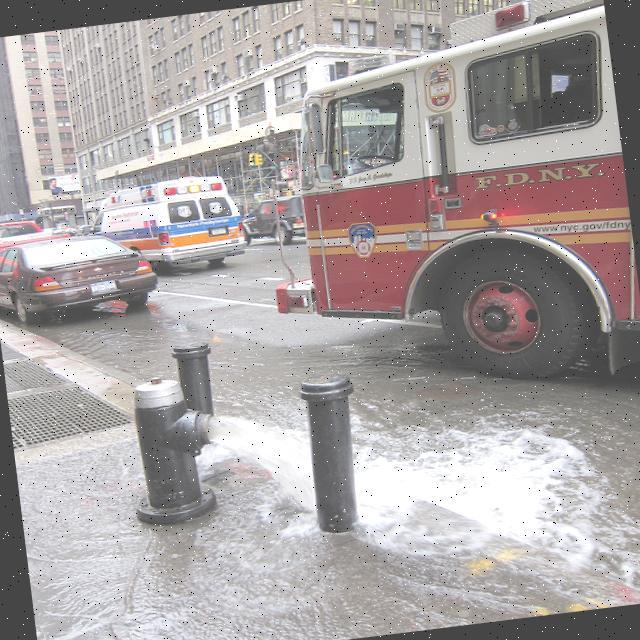fire_hydrant: (122, 371, 225, 526)
